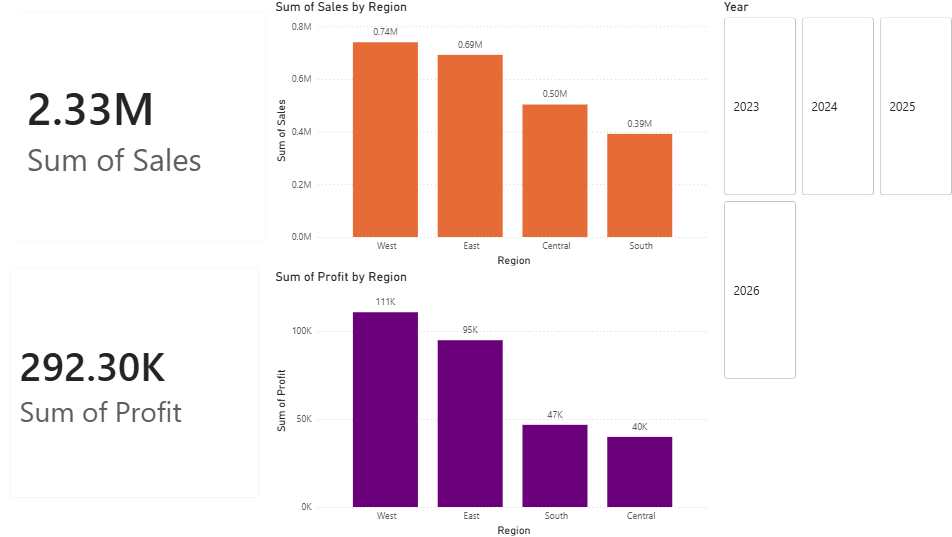

What the dashboard file says about the page in this screenshot:
{"tool":"powerbi","page":{"name":"overall","canvas":[1280,720],"ordinal":0},"visuals":[{"type":"cardVisual","fields":{"Data":["Sum(clean_superstore.Sales)"]},"box":[9.4,0,366.6,340.2],"z":0},{"type":"cardVisual","fields":{"Data":["Sum(clean_superstore.Profit)"]},"box":[0,340,366,342],"z":1000},{"type":"columnChart","fields":{"Category":["clean_superstore.Region"],"Y":["Sum(clean_superstore.Sales)"]},"box":[366,0,588,360],"z":2000},{"type":"columnChart","fields":{"Category":["clean_superstore.Region"],"Y":["Sum(clean_superstore.Profit)"]},"box":[366,360,588,360],"z":3000},{"type":"advancedSlicerVisual","fields":{"Values":["clean_superstore.Order_Date.Variation.Date Hierarchy.Year"]},"box":[964,0,316,512],"z":4000}]}

Visuals, with their boxes in screenshot pixels (x1, y1, x2, y2), scaled from the page's 1280x720 canvas onto the 952x537 screenshot:
cardVisual - Sum(clean_superstore.Sales): BBox(7, 0, 280, 254)
cardVisual - Sum(clean_superstore.Profit): BBox(0, 254, 272, 509)
columnChart - clean_superstore.Region x Sum(clean_superstore.Sales): BBox(272, 0, 710, 268)
columnChart - clean_superstore.Region x Sum(clean_superstore.Profit): BBox(272, 268, 710, 536)
advancedSlicerVisual - clean_superstore.Order_Date.Variation.Date Hierarchy.Year: BBox(717, 0, 951, 382)
